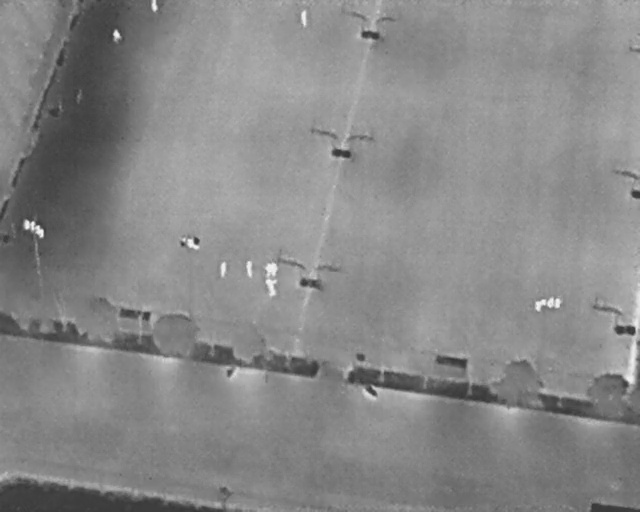Person: (300, 9, 308, 27), (112, 29, 122, 43), (219, 261, 227, 278), (269, 281, 277, 298), (246, 260, 253, 278), (264, 263, 272, 278), (271, 262, 278, 277), (150, 0, 158, 13), (265, 278, 272, 292)
